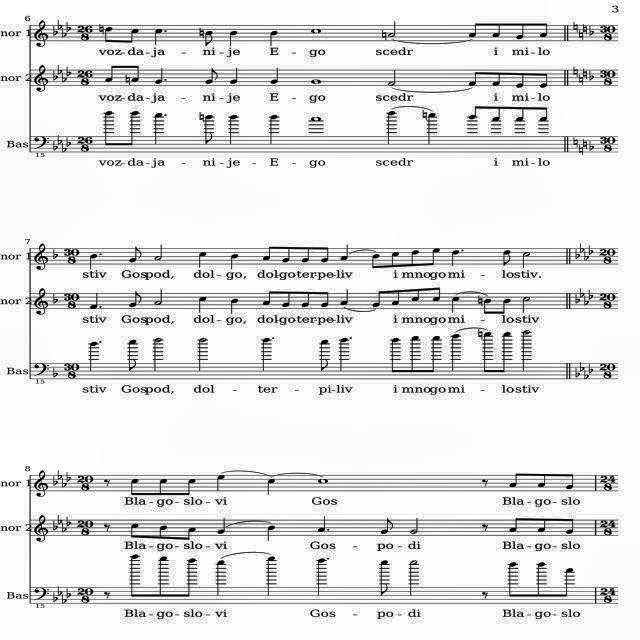Bass-clef: (34, 20, 50, 48), (34, 288, 50, 316), (34, 243, 50, 271), (35, 512, 49, 544), (34, 64, 48, 92), (36, 469, 49, 497)
Bemol: (578, 287, 586, 297), (66, 66, 72, 78), (53, 292, 59, 304), (588, 70, 594, 82), (578, 242, 584, 254), (583, 250, 589, 262), (583, 295, 589, 307), (52, 520, 58, 532), (65, 516, 71, 528), (53, 367, 59, 378), (66, 471, 72, 482), (53, 25, 59, 35), (66, 22, 72, 32), (53, 141, 59, 151), (66, 137, 72, 147), (53, 249, 59, 259), (588, 26, 594, 36), (574, 249, 580, 259), (587, 245, 593, 255), (588, 290, 594, 300), (573, 368, 579, 378), (579, 361, 585, 371), (52, 476, 58, 486), (57, 471, 63, 481), (57, 515, 63, 525), (52, 593, 58, 603), (57, 586, 63, 596), (66, 588, 72, 598), (54, 70, 58, 82), (58, 64, 62, 76), (58, 134, 62, 146), (62, 142, 66, 154), (589, 142, 595, 150), (574, 294, 580, 302), (584, 370, 588, 382), (588, 363, 592, 375), (62, 522, 66, 534), (62, 27, 66, 37), (58, 20, 62, 30), (62, 73, 66, 83), (62, 478, 66, 488), (62, 595, 66, 605)
Eighth-note: (182, 558, 198, 598), (498, 331, 512, 373), (126, 110, 140, 146), (158, 556, 170, 596), (131, 554, 141, 598), (430, 336, 442, 372), (102, 110, 114, 146), (379, 560, 391, 596), (534, 562, 546, 598), (483, 331, 493, 373), (408, 335, 419, 373), (507, 562, 518, 598), (391, 337, 401, 373), (203, 114, 214, 146), (562, 568, 574, 596), (128, 340, 138, 372), (320, 340, 330, 372), (128, 290, 144, 308), (203, 68, 219, 84), (128, 246, 142, 262), (498, 298, 512, 314), (381, 518, 395, 534), (428, 248, 440, 266), (104, 65, 116, 83), (514, 71, 526, 89), (514, 22, 526, 40), (130, 65, 142, 83), (564, 472, 576, 490), (372, 290, 383, 308), (468, 106, 482, 120), (388, 252, 400, 268), (502, 250, 514, 266), (261, 290, 273, 306), (280, 292, 292, 308), (300, 291, 312, 307), (126, 28, 138, 44), (538, 106, 550, 122), (468, 70, 480, 86), (536, 72, 548, 88), (467, 22, 479, 38), (490, 22, 502, 38), (538, 22, 550, 38), (508, 472, 520, 488), (536, 472, 548, 488), (508, 516, 520, 532), (130, 479, 140, 497), (187, 479, 197, 497), (391, 290, 402, 306), (431, 286, 442, 302), (491, 70, 502, 86), (158, 479, 168, 496), (156, 525, 168, 539), (184, 527, 196, 541), (281, 246, 291, 262), (301, 246, 311, 262), (320, 246, 330, 262), (371, 254, 381, 270), (409, 250, 419, 266), (320, 292, 330, 308), (483, 298, 493, 314), (103, 26, 113, 42), (492, 106, 502, 122), (515, 106, 525, 122), (203, 30, 213, 46), (130, 522, 140, 538), (537, 516, 547, 532), (565, 518, 575, 534), (262, 246, 272, 260), (410, 288, 420, 302)
Eighth-rest: (480, 478, 488, 486), (102, 592, 111, 598), (104, 478, 110, 486), (104, 524, 110, 532), (482, 524, 490, 530), (483, 591, 489, 599)
Full-note: (316, 478, 329, 484), (310, 28, 322, 34), (310, 116, 322, 122), (310, 80, 322, 84)
Half-note: (521, 330, 531, 372), (410, 560, 418, 596), (153, 338, 163, 360), (521, 296, 531, 314), (387, 20, 397, 38), (198, 338, 206, 360), (153, 243, 163, 260), (387, 70, 397, 86), (409, 518, 419, 534), (154, 288, 162, 306), (522, 252, 530, 268)
Quarter-note: (267, 556, 277, 596), (152, 112, 164, 144), (226, 114, 238, 146), (316, 558, 326, 596), (427, 112, 438, 144), (386, 111, 396, 145), (217, 560, 226, 596), (268, 114, 278, 146), (451, 334, 462, 361), (261, 338, 271, 362), (152, 68, 164, 84), (198, 296, 208, 314), (266, 478, 276, 496), (90, 341, 98, 363), (340, 338, 348, 360), (229, 298, 239, 314), (339, 288, 349, 304), (228, 68, 238, 84), (269, 68, 279, 84), (228, 31, 238, 47), (268, 30, 278, 46), (89, 254, 98, 270), (216, 474, 224, 492), (318, 516, 327, 532), (340, 243, 348, 260), (90, 292, 98, 308), (198, 252, 206, 268), (230, 254, 238, 270), (452, 250, 460, 266), (452, 296, 460, 312), (154, 28, 162, 44), (218, 518, 226, 534), (268, 526, 276, 542)
